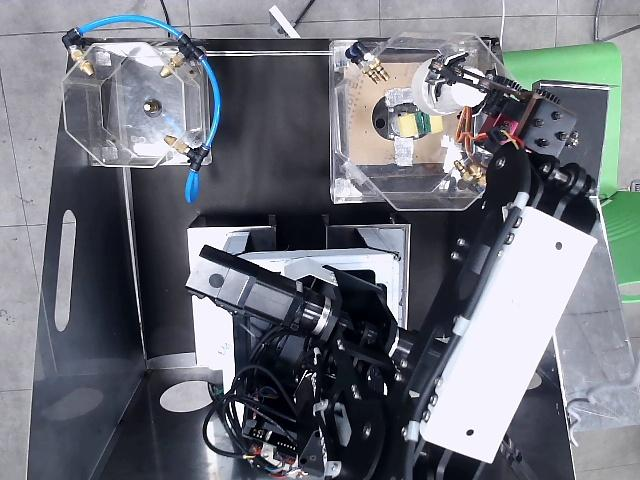cup: (413, 57, 486, 115)
